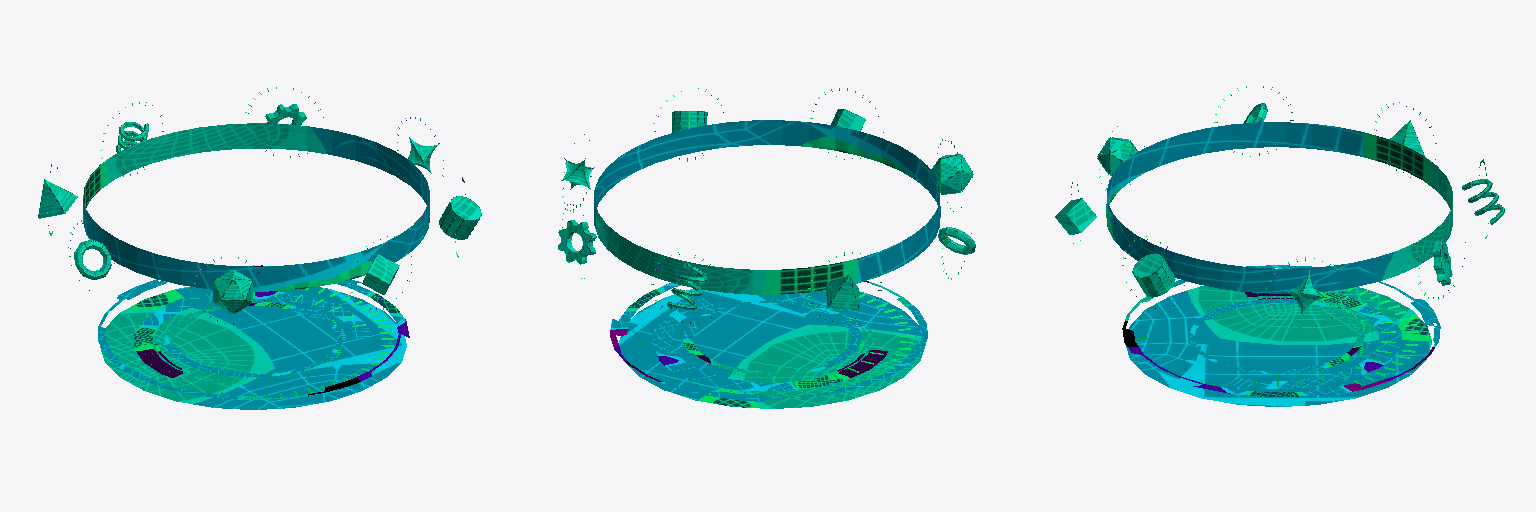
3 views of the same model, side by side, from view 1: azimuth 30°, elevation 25°; view 2: azimuth 150°, elevation 25°; view 3: azimuth 270°, elevation 25° (orthographic).
Size of the model in its own units: 3.47 by 1.5 by 3.48.
Materials: 1 (1 with a texture image).